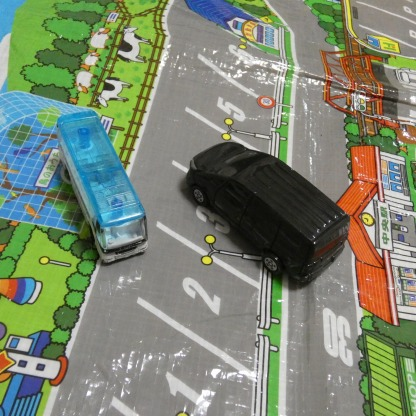car: (184, 134, 346, 297), (54, 108, 151, 266)
